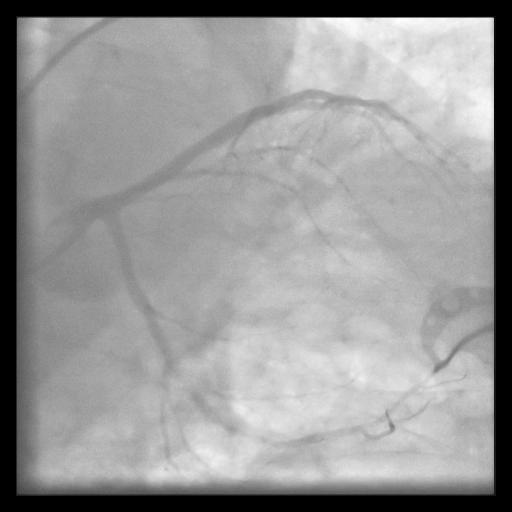Stenosis: (173, 360, 201, 407)
